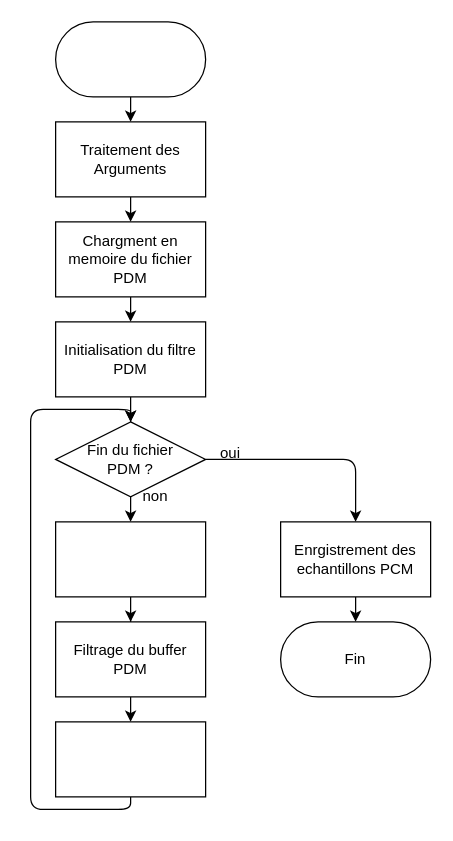
Image size: 453x841. Some labels were removed from this diagram. Each missing label, with the centre of its shape:
"Copie des échantillons PCM produits dans le son" belongs at (130,759).
"Copie du block de 128 mots PDM suivant dans le Buffer" belongs at (130,559).
"Debut" belongs at (130,59).
